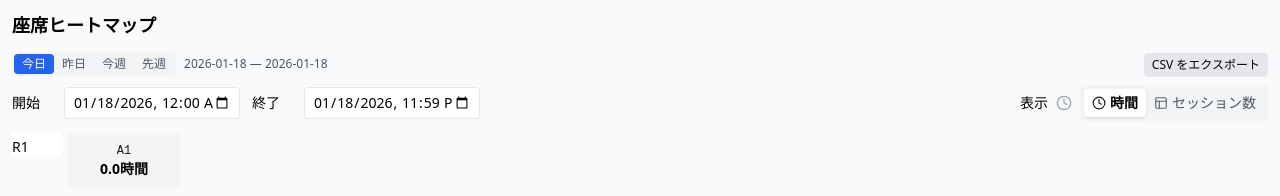
Test: SeatHeatmap component - smoke › display toggle switches between hours and session count
The width and height of the screenshot is (1280, 196).
Check: the text "0.0時間" is shown, box [100, 159, 148, 179]
Click the tab "セッション数" at [1205, 103], box [1146, 89, 1264, 117]
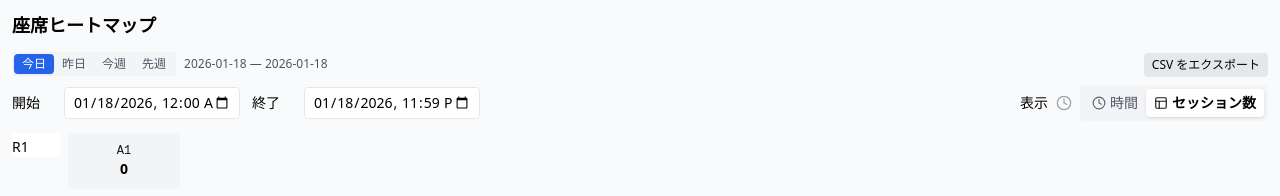
Check: the text "0" is shown, box [120, 159, 128, 179]
